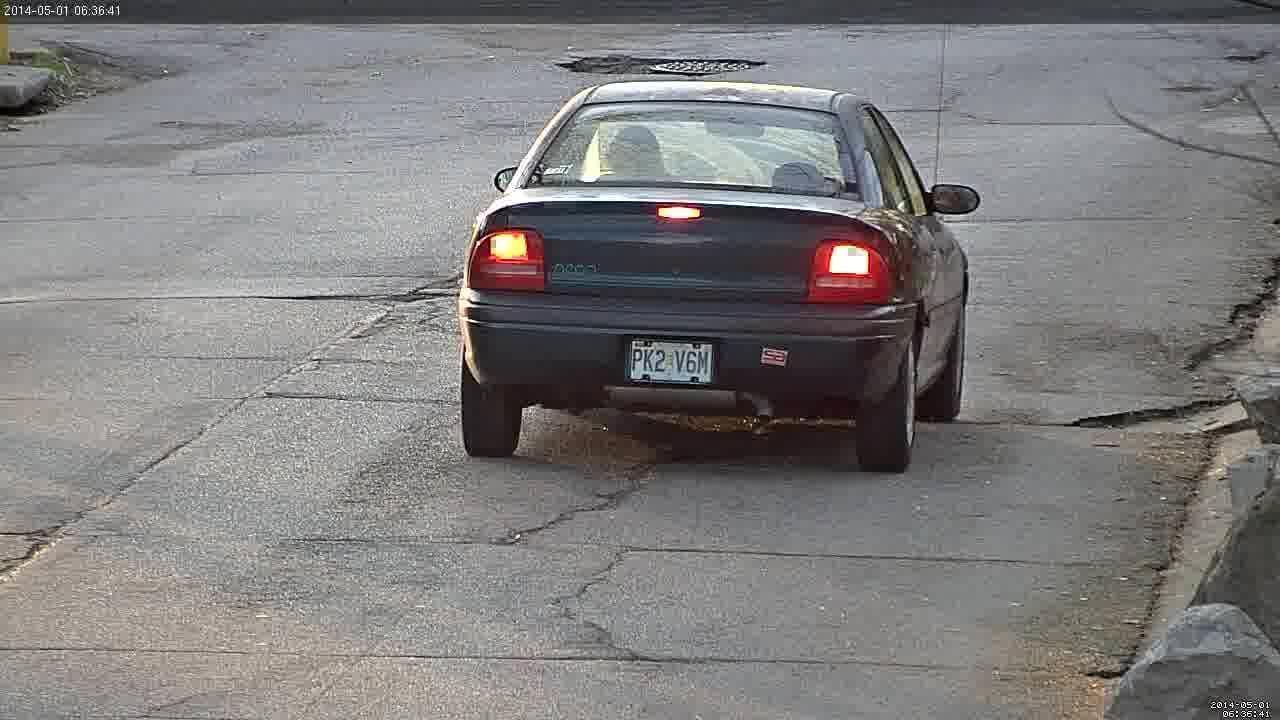placa de veiculo: (607, 312, 731, 417)
